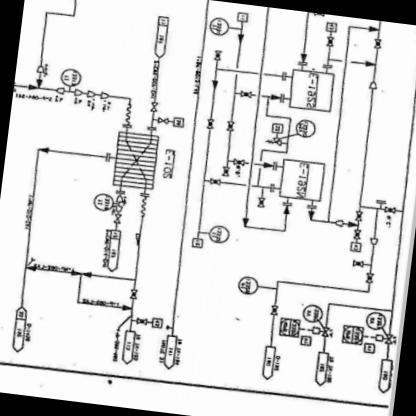LMI: (232, 268, 260, 298), (58, 62, 87, 87), (206, 221, 232, 246), (300, 300, 324, 324), (89, 189, 114, 212), (294, 115, 318, 138), (208, 13, 230, 38), (364, 310, 388, 330)
TAG: (338, 322, 364, 347), (277, 314, 301, 338)
